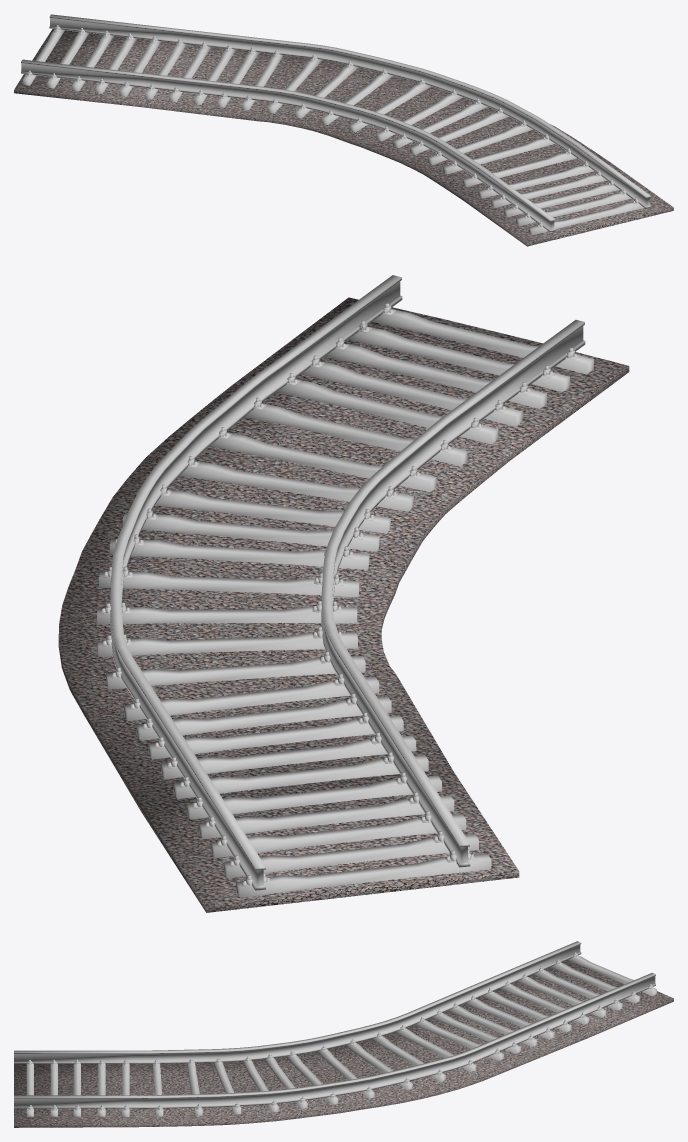
The model's file is track_left45_concrete.fbx.
3 renders of one model, top to bottom at view 1: azimuth 30°, elevation 25°; view 2: azimuth 150°, elevation 25°; view 3: azimuth 270°, elevation 25°, orthographic. The views are drawn at different scales.
Parts seen in each view (by area): view 1: ground, rails, concrete; view 2: ground, concrete, rails; view 3: ground, rails, concrete.
Boxes of the visible parts, left/top/right/bottom form: ground: left=14, top=29, right=673, bottom=246; rails: left=21, top=14, right=650, bottom=232; concrete: left=22, top=29, right=650, bottom=235; ground: left=58, top=297, right=629, bottom=912; concrete: left=97, top=309, right=593, bottom=897; rails: left=101, top=275, right=585, bottom=890; ground: left=14, top=960, right=673, bottom=1127; rails: left=14, top=941, right=655, bottom=1110; concrete: left=26, top=956, right=656, bottom=1116.
Bounding box in the file's own units: 7.27 × 0.381 × 11.61.
